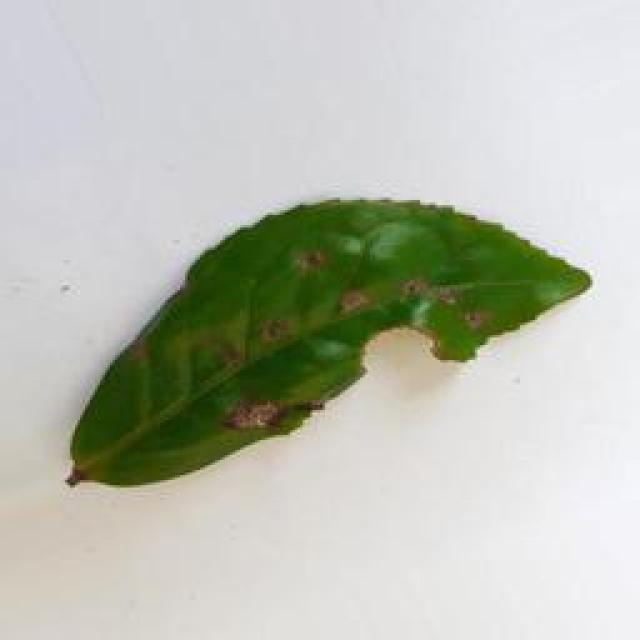Helopeltis: (61, 189, 598, 518)
